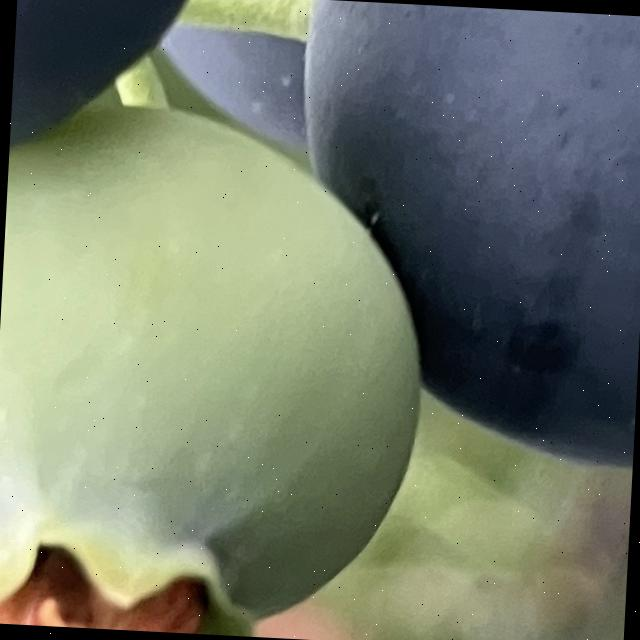Blueberries: (0, 88, 439, 640), (261, 0, 640, 481)
